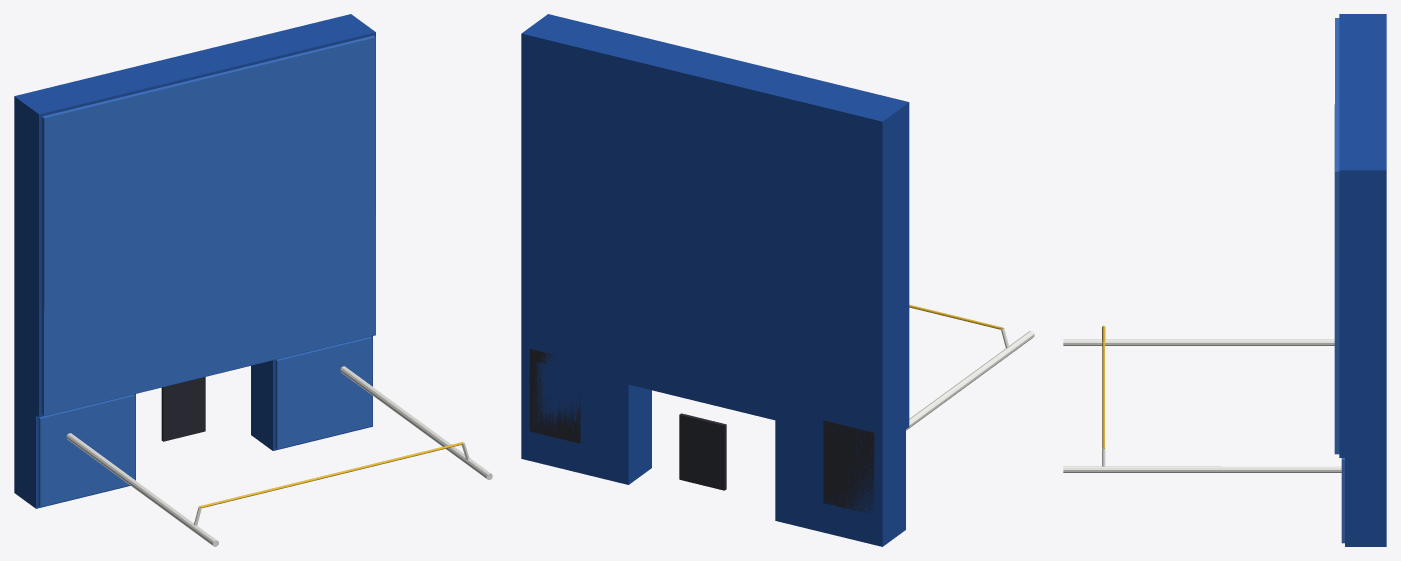
File: perche.glb
3 renders of one model, left to right at view 1: azimuth 30°, elevation 25°; view 2: azimuth 150°, elevation 25°; view 3: azimuth 270°, elevation 25°, orthographic. The views are drawn at different scales.
Parts seen in each view (by area): view 1: housse, tapis, pan_dessus.001, pan_dessus, pan, butoir, pan.001, chandelier, chandelier.001, barre; view 2: tapis, pan.001, pan, base, butoir, base.001, chandelier; view 3: tapis, pan.001, housse, chandelier.001, chandelier.
Boxes of the visible parts, <box> form: housse: <box>41,35,375,415</box>; tapis: <box>14,14,375,417</box>; pan_dessus.001: <box>275,336,372,448</box>; pan_dessus: <box>38,394,135,506</box>; pan: <box>14,394,135,508</box>; butoir: <box>161,377,205,441</box>; pan.001: <box>251,336,372,450</box>; chandelier: <box>66,433,218,546</box>; chandelier.001: <box>340,366,492,479</box>; barre: <box>199,442,463,507</box>; tapis: <box>521,14,909,446</box>; pan.001: <box>521,358,651,484</box>; pan: <box>775,420,905,546</box>; base: <box>823,420,874,514</box>; butoir: <box>679,413,726,490</box>; base.001: <box>529,349,580,443</box>; chandelier: <box>906,331,1034,430</box>; tapis: <box>1339,14,1386,457</box>; pan.001: <box>1345,458,1386,546</box>; housse: <box>1334,18,1339,454</box>; chandelier.001: <box>1063,466,1341,472</box>; chandelier: <box>1063,339,1334,345</box>.
Size of the model in its own units: 6.4 by 7.2 by 5.6.
